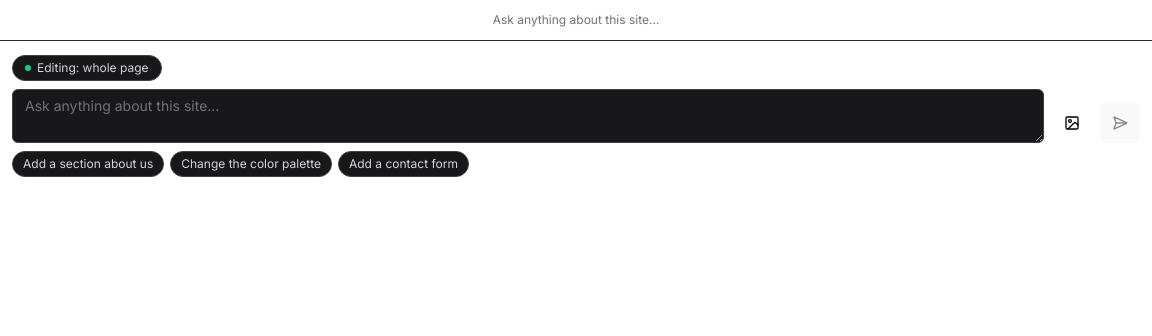
Test: RightSidebarAiChat › Discard mutes the buttons without mutating the store
Type "y" into the text box with test id "composer-textarea".
click(528, 116); type("y")  # box [12, 89, 1044, 143]
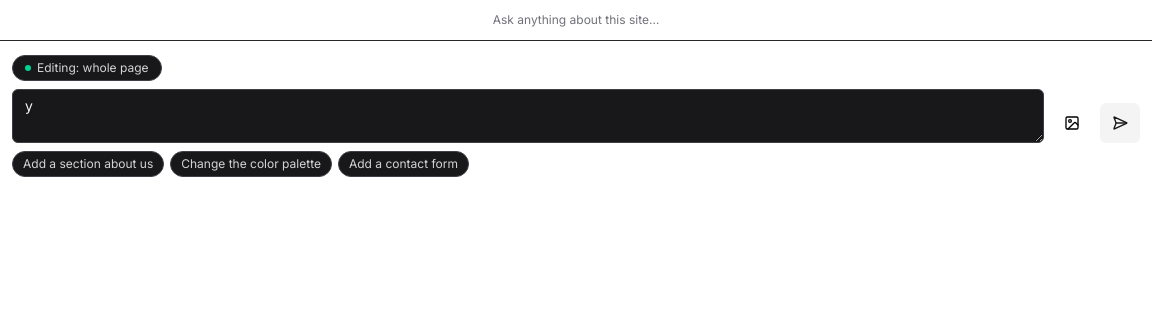
Click the button named "Send".
click(1120, 123)  # box [1100, 103, 1140, 143]
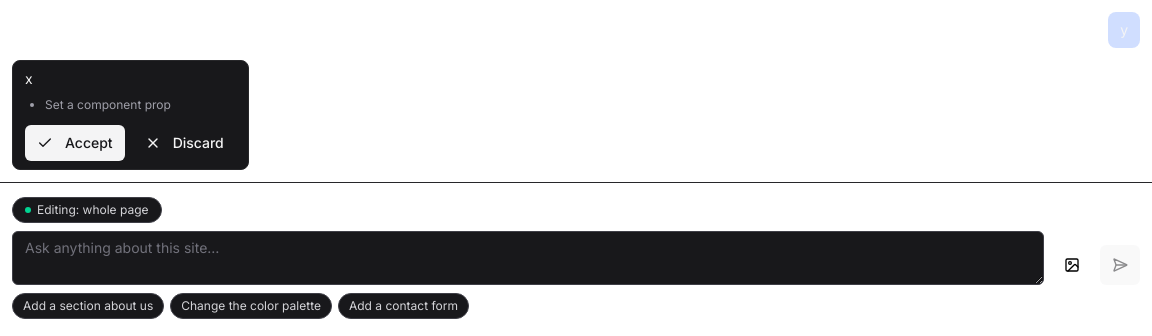
Expected: the text box with test id "composer-textarea" is shown, [12, 231, 1044, 285]
Result: the element with test id "assistant-ok" is shown at [12, 60, 249, 170]
Click the button with test id "discard-button".
click(184, 143)  # box [133, 125, 236, 161]
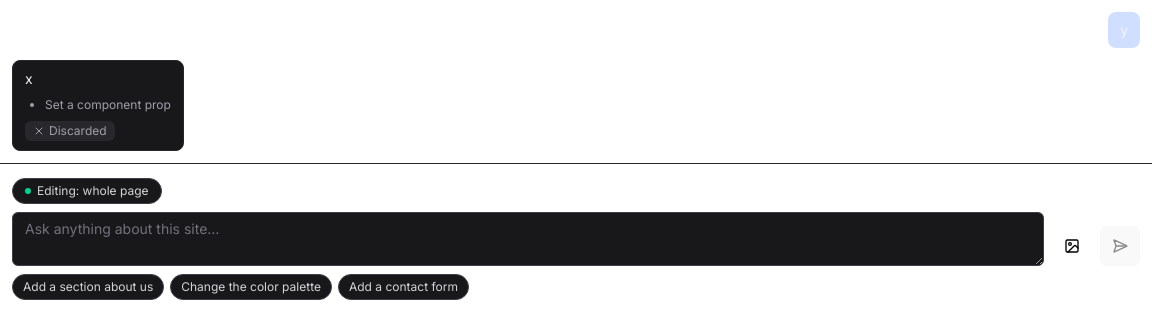
Result: the element with test id "discarded-tag" is shown at [25, 121, 115, 141]
